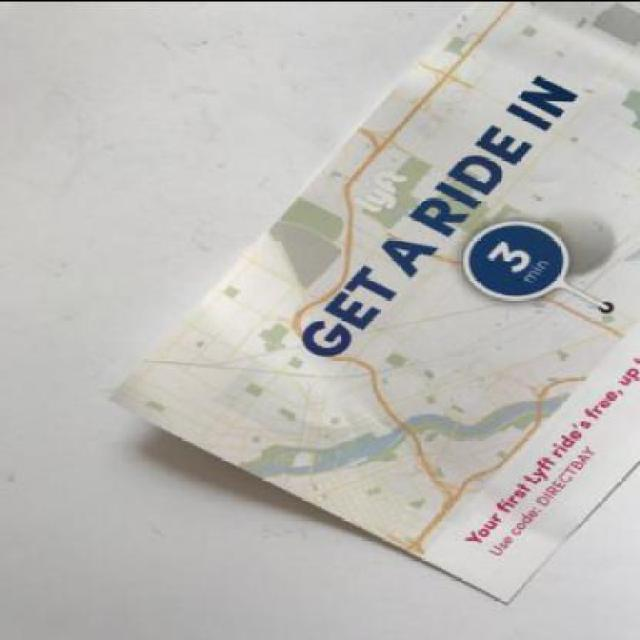paper: (116, 1, 638, 602)
